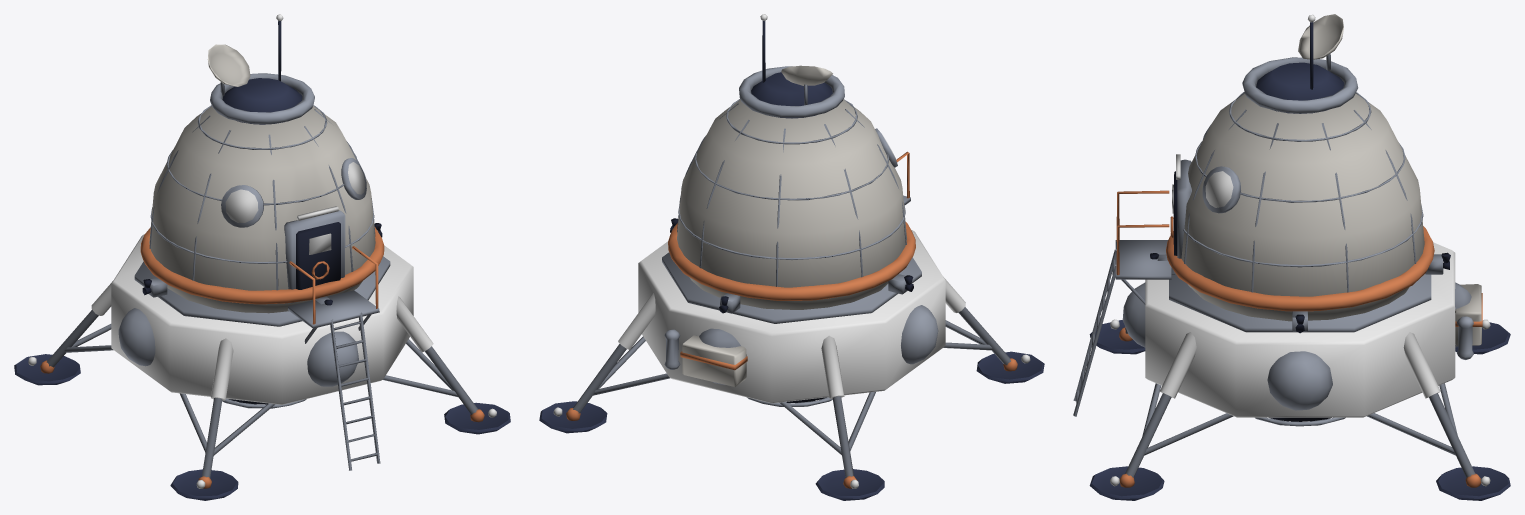
File: lander_low.glb
The picture shows the model from 3 angles, left to right: view 1: azimuth 30°, elevation 25°; view 2: azimuth 150°, elevation 25°; view 3: azimuth 270°, elevation 25°; orthographic projection. The views are drawn at different scales.
Parts seen in each view (by area): view 1: lander; view 2: lander; view 3: lander.
Boxes of the visible parts, box(x1,y1,x2,y2) form: lander: box(14, 14, 510, 500); lander: box(539, 14, 1044, 500); lander: box(1073, 14, 1510, 500).
Bounding box in the file's own units: 7.39 × 8 × 7.68.
